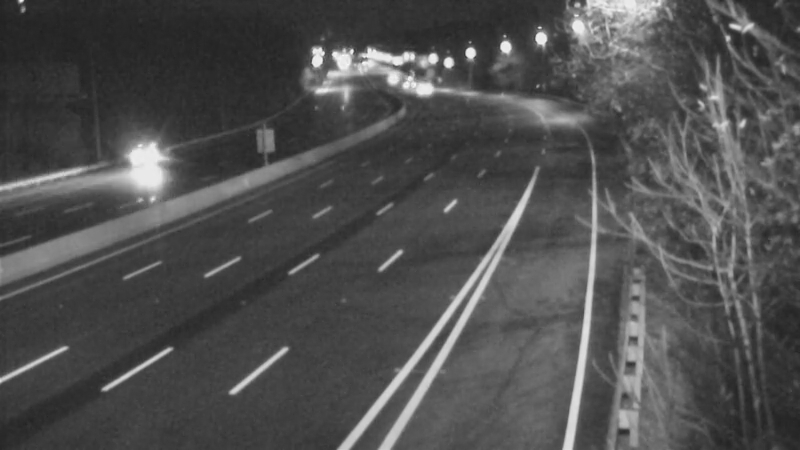vehicle: (96, 118, 176, 198), (369, 54, 419, 104), (379, 54, 429, 104), (396, 64, 446, 114)
